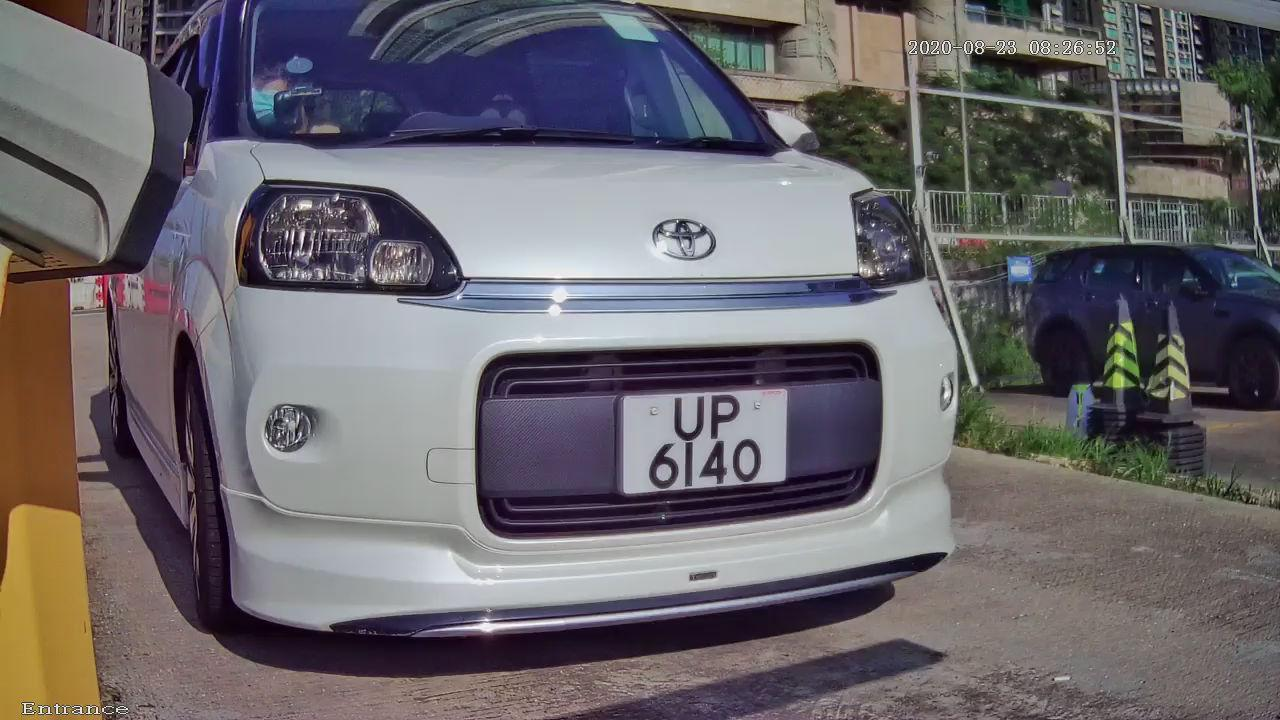License Plate: (601, 373, 806, 512)
